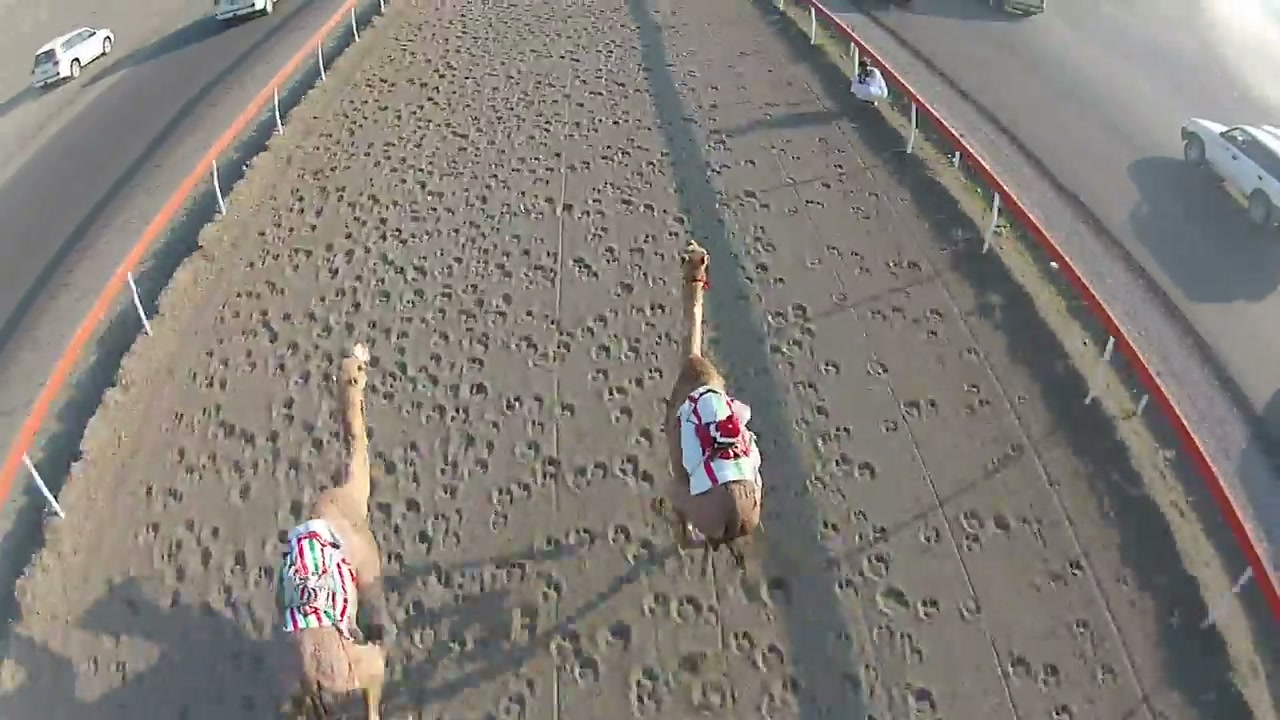animal_foot_print: (0, 0, 1247, 719)
